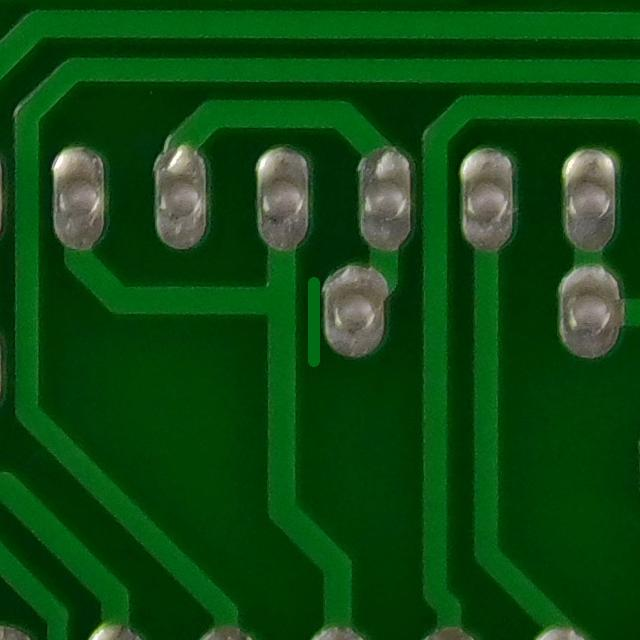spurious_copper: (279, 259, 361, 381)
